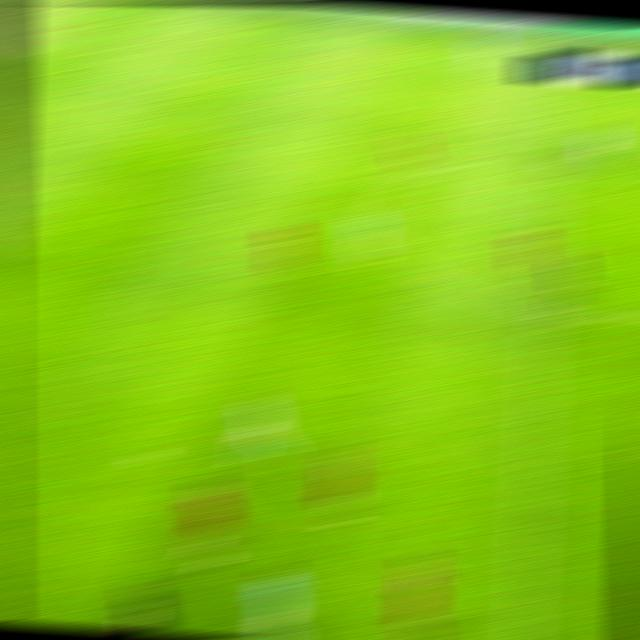bigarea_top_inner: (32, 23, 71, 45)
halfcircle_bottom: (522, 295, 569, 329)
halfcircle_top: (531, 147, 581, 181)
midline_top_intersection: (543, 40, 588, 52)
